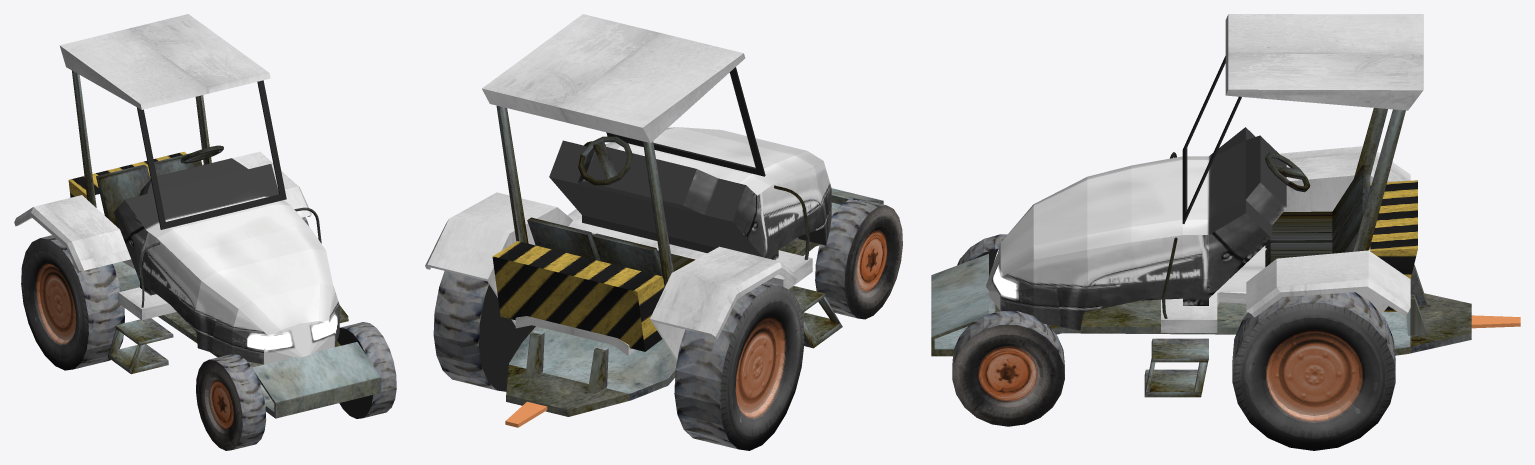
Rendered from TRATOR.gltf.
The picture shows the model from 3 angles, left to right: view 1: azimuth 30°, elevation 25°; view 2: azimuth 150°, elevation 25°; view 3: azimuth 270°, elevation 25°; orthographic projection. The views are drawn at different scales.
Parts seen in each view (by area): view 1: node1; view 2: node1; view 3: node1.
Part boxes in pixels (<box>): node1: <box>14,14,396,450</box>; node1: <box>425,14,902,450</box>; node1: <box>931,14,1520,450</box>.
Size of the model in its own units: 2.29 by 2.57 by 4.14.
